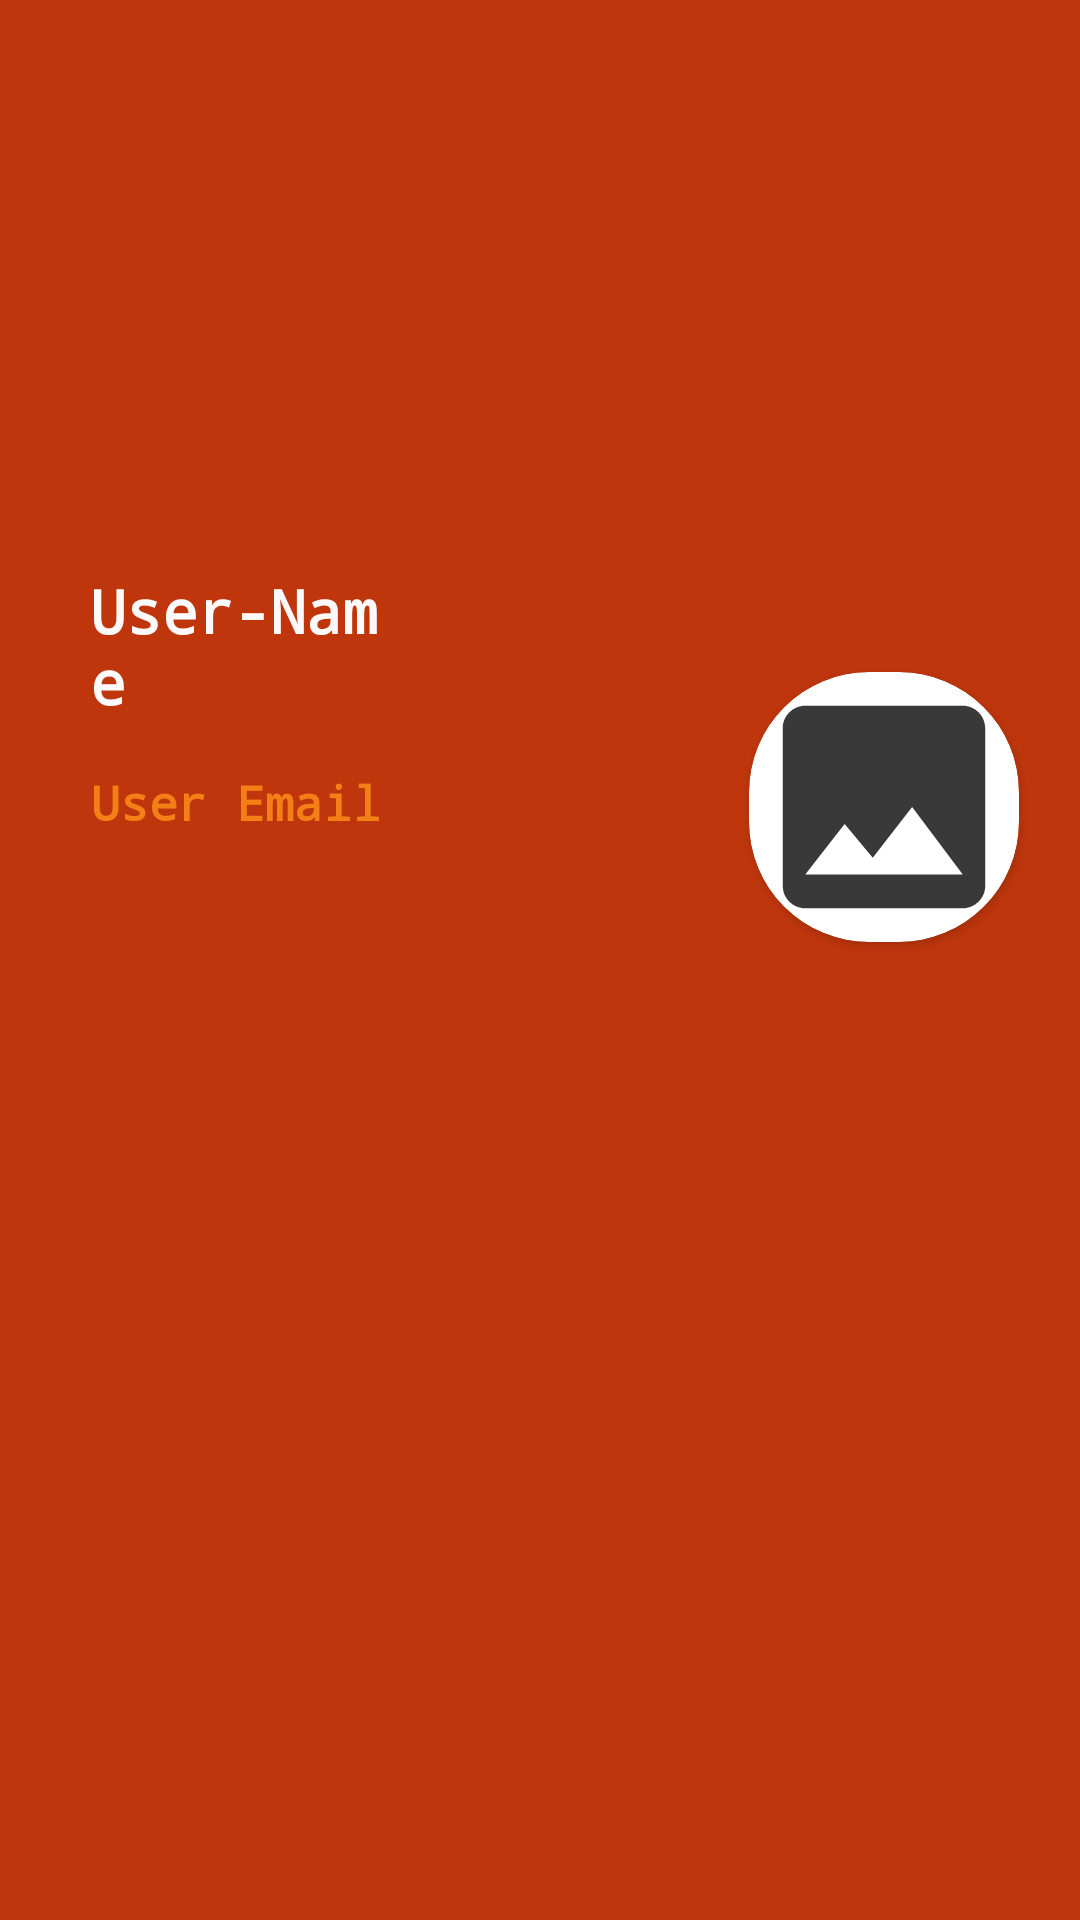

Named icons in this screenshot (1080*1920) and their centers, (x=x, y=y):
insert photo: (x=884, y=807)
